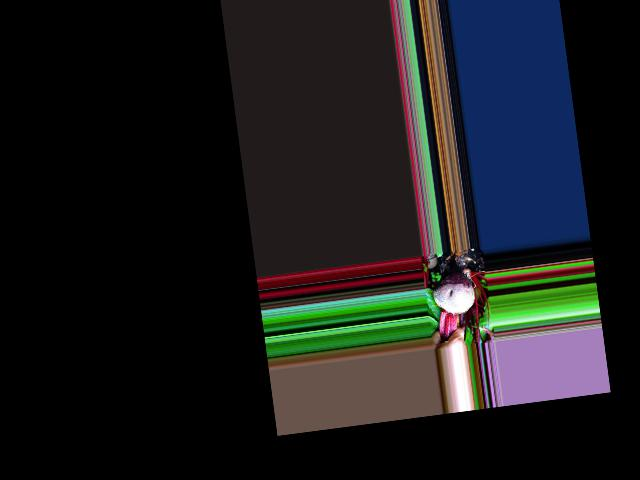beet: (428, 248, 480, 343)
